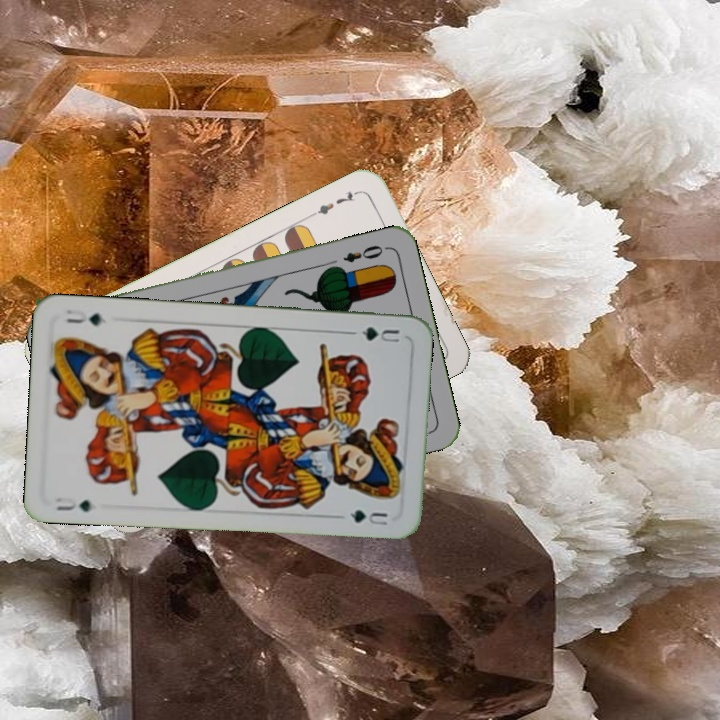E7: (307, 186, 361, 219)
EO: (339, 241, 390, 265)
GU: (347, 323, 402, 345), (51, 493, 95, 515)
